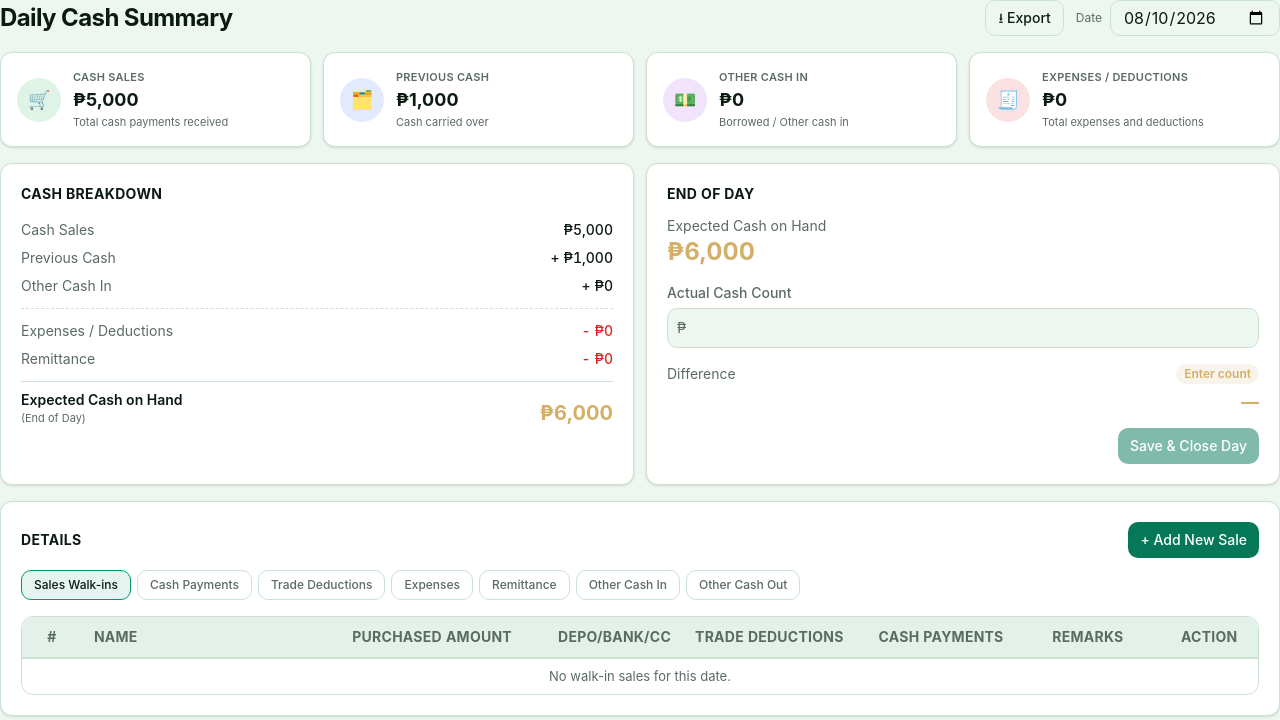
Daily Cash — one self-contained tabbed Details section › "+ Add New Sale" opens the shared Walk-In modal in-section (lazy item load)
Click the button with test id "cash-add-walkin". click: (1194, 540)
box: [1128,522,1259,558]
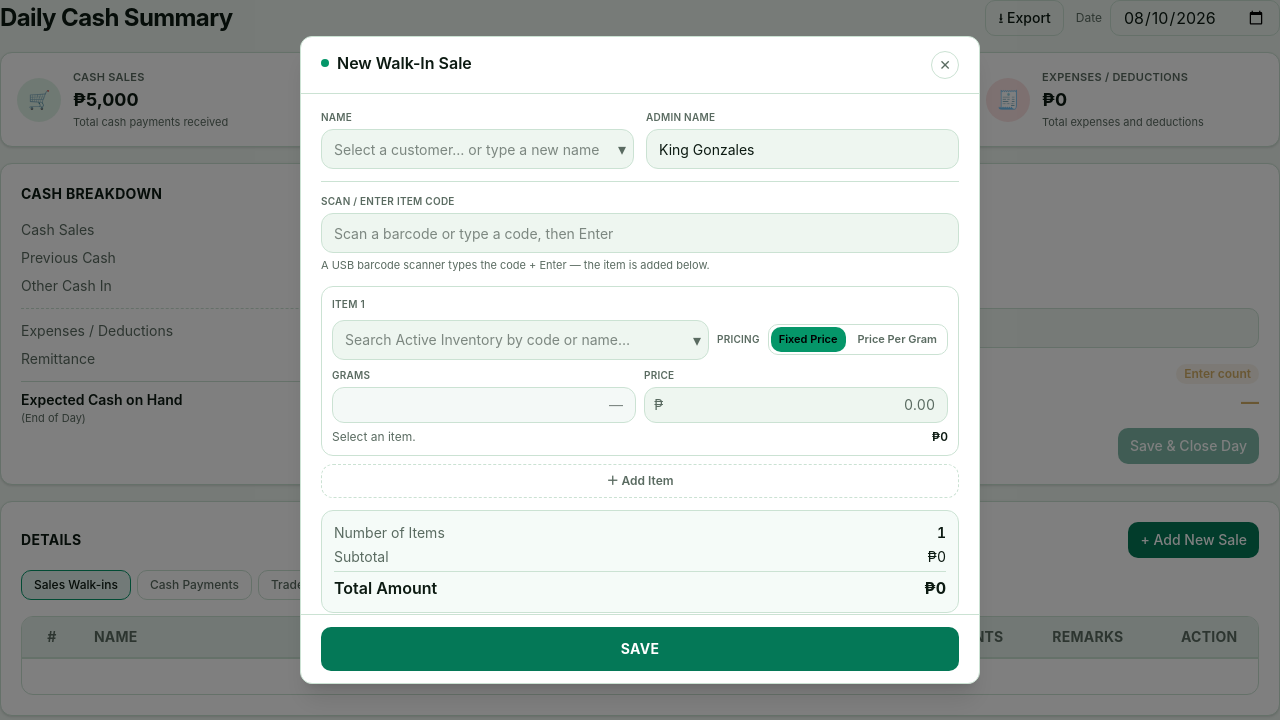
Expected: the dialog shows "New Walk-In Sale", [337,53,472,73]
